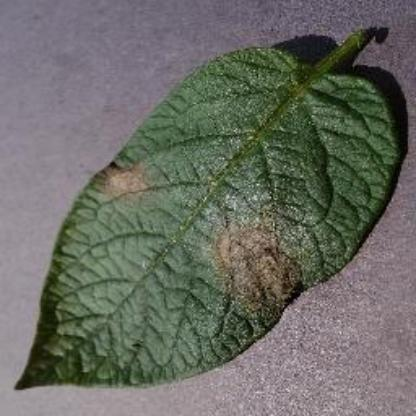Late-Blight: (9, 20, 403, 402)
